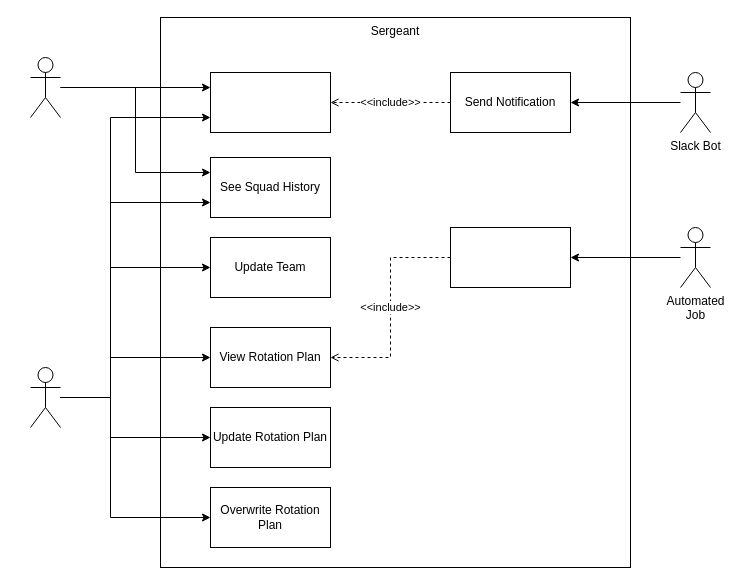
The diagram is 742 pixels wide and 585 high, and some of its shapes have lost their labels. The centre of each missing label's shape, as x and y in pixels:
Manager: the point at 45,397
Participant: the point at 45,87
Rotate Squad: the point at 510,257
See current Squad Assignments: the point at 270,102
